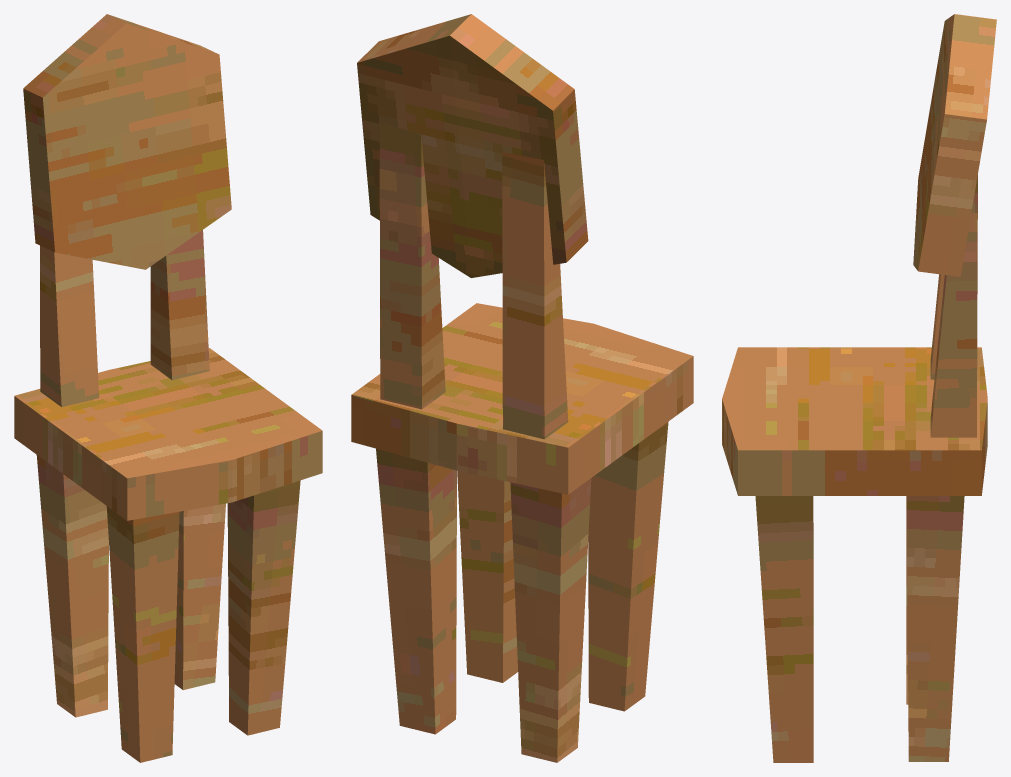
Rendered from func_chair.glb.
3 renders of one model, left to right at view 1: azimuth 30°, elevation 25°; view 2: azimuth 150°, elevation 25°; view 3: azimuth 270°, elevation 25°, orthographic. The views are drawn at different scales.
Parts seen in each view (by area): view 1: Cube_003; view 2: Cube_003; view 3: Cube_003.
Part boxes in pixels (<box>): Cube_003: <box>14,14,322,762</box>; Cube_003: <box>351,14,693,762</box>; Cube_003: <box>722,14,996,762</box>.
Bounding box in the file's own units: 0.3 × 0.9675 × 0.3383.
Materials: 1 (1 with a texture image).
